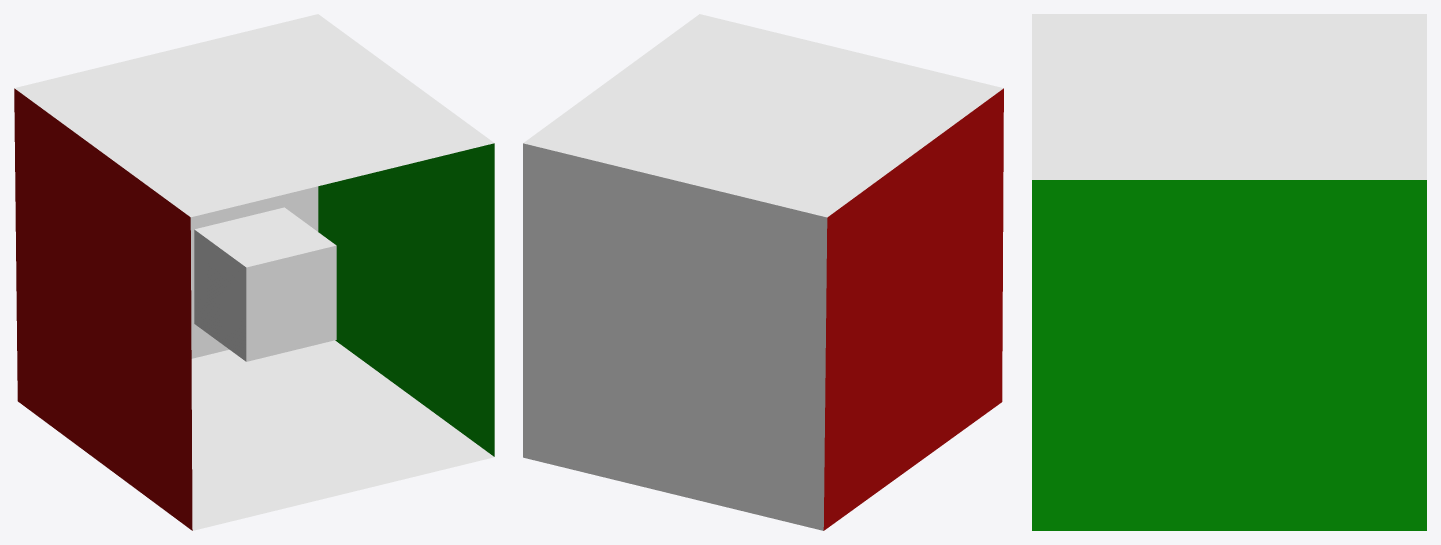
File: cornell_box_catmull_clark.fbx
3 renders of one model, left to right at view 1: azimuth 30°, elevation 25°; view 2: azimuth 150°, elevation 25°; view 3: azimuth 270°, elevation 25°, orthographic. The views are drawn at different scales.
Visible parts, largest first — view 1: object2, object4, object3, smoothed_mesh; view 2: object2, object4; view 3: object3, object2.
Boxes of the visible parts, box(x1,y1,x2,y2) form: object2: box(14, 14, 494, 530); object4: box(14, 88, 192, 530); object3: box(318, 143, 494, 456); smoothed_mesh: box(194, 207, 336, 361); object2: box(523, 14, 1003, 530); object4: box(823, 88, 1003, 530); object3: box(1032, 180, 1426, 530); object2: box(1032, 14, 1426, 179).
Bounding box in the file's own units: 23.28 × 22.98 × 23.41.
